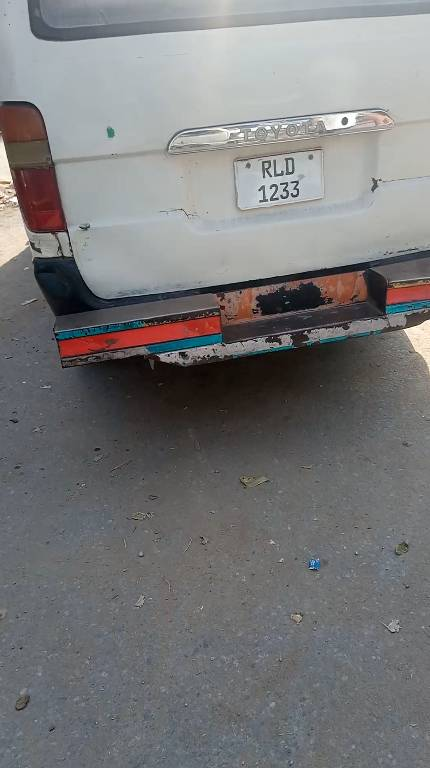number_plate: (236, 148, 331, 209)
